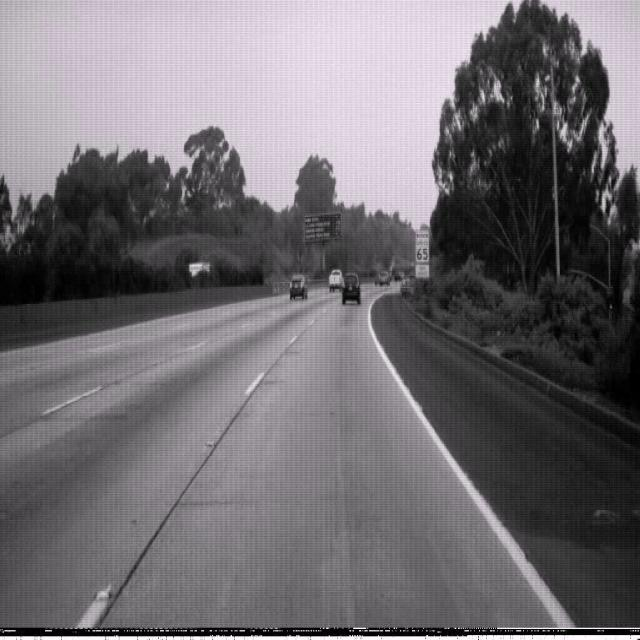speedLimit65: (414, 226, 430, 264)
